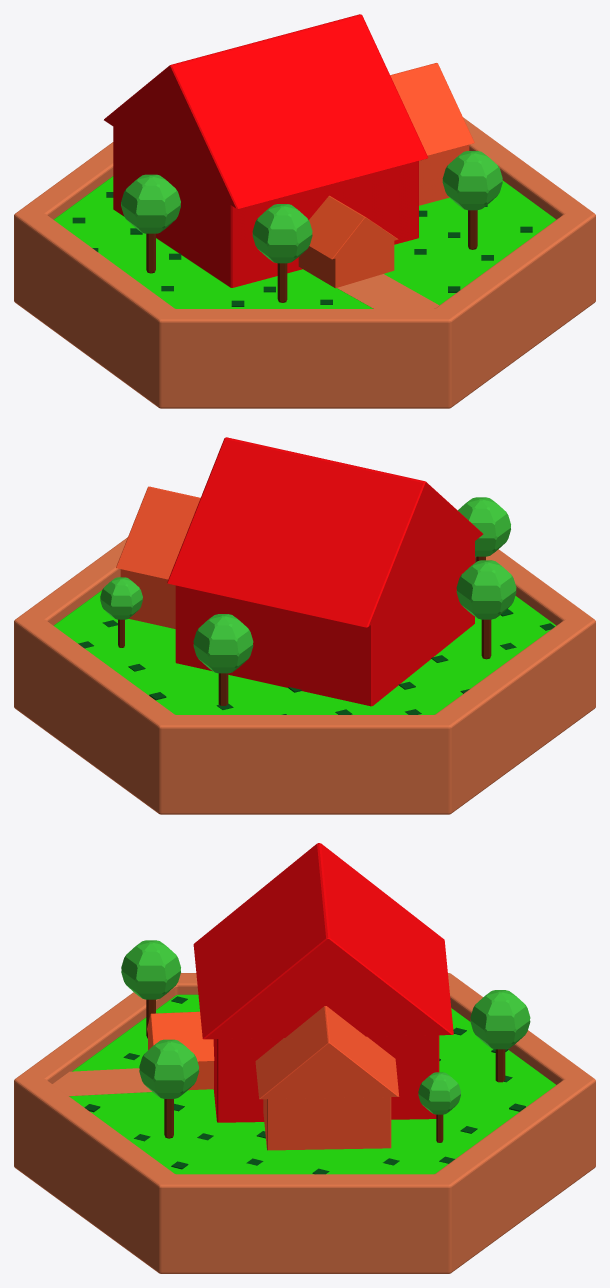
File: House2.fbx
3 renders of one model, top to bottom at view 1: azimuth 30°, elevation 25°; view 2: azimuth 150°, elevation 25°; view 3: azimuth 270°, elevation 25°, orthographic.
Parts seen in each view (by area): view 1: Cube.001; view 2: Cube.001; view 3: Cube.001.
Part boxes in pixels (x1=…): Cube.001: x1=14, y1=14, x2=595, y2=408; Cube.001: x1=14, y1=437, x2=595, y2=814; Cube.001: x1=14, y1=843, x2=595, y2=1273.
Size of the model in its own units: 173 by 99.55 by 200.
